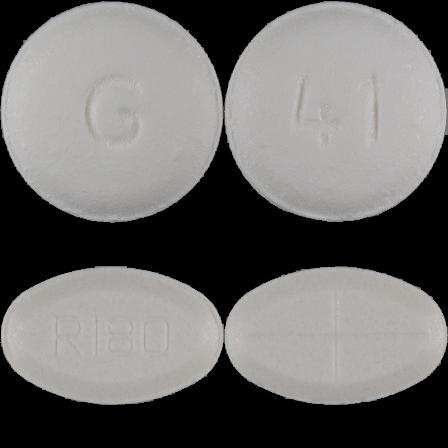58118-0163: (0, 0, 224, 224)
